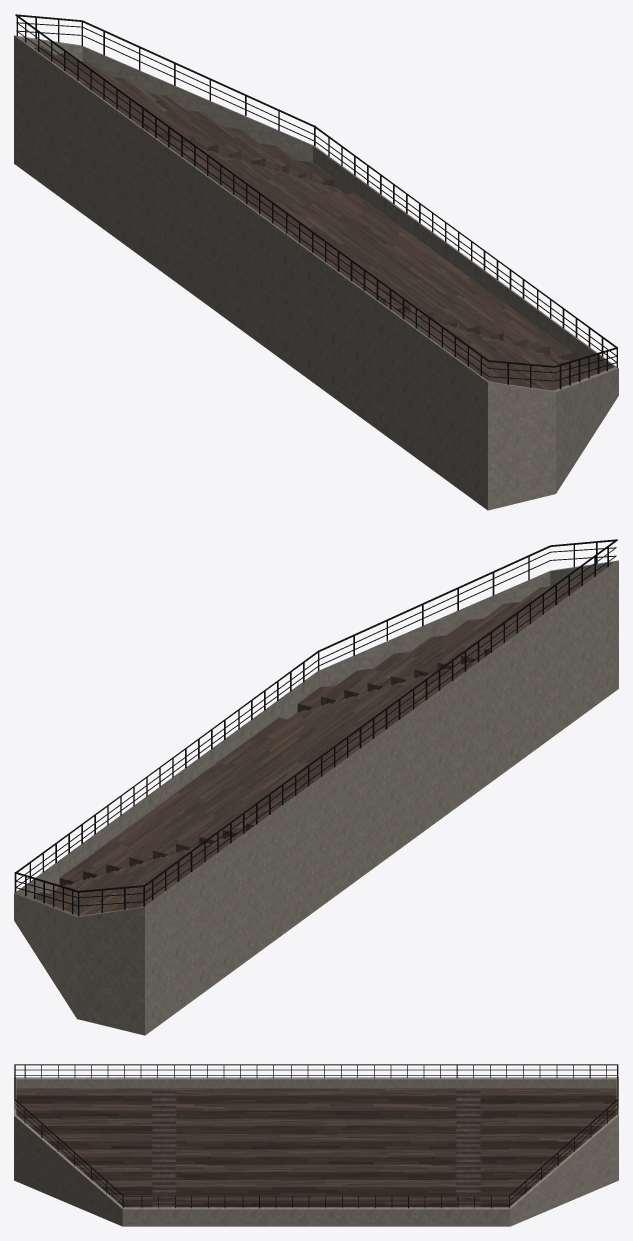
File: Stand_F.FBX
3 renders of one model, top to bottom at view 1: azimuth 30°, elevation 25°; view 2: azimuth 150°, elevation 25°; view 3: azimuth 270°, elevation 25°, orthographic. The views are drawn at different scales.
Visible parts, largest first — view 1: Stand_F_Wall, Stand_F_Step_Floor, Stand_F_Railing, Stand_F_Steps; view 2: Stand_F_Wall, Stand_F_Step_Floor, Stand_F_Railing, Stand_F_Steps; view 3: Stand_F_Step_Floor, Stand_F_Wall, Stand_F_Railing, Stand_F_Steps.
Part boxes in pixels (x1,y1,x2,y2): Stand_F_Wall: [14, 35, 618, 510]; Stand_F_Step_Floor: [34, 46, 599, 390]; Stand_F_Railing: [15, 14, 617, 389]; Stand_F_Steps: [150, 133, 583, 369]; Stand_F_Wall: [14, 560, 618, 1035]; Stand_F_Step_Floor: [33, 571, 599, 915]; Stand_F_Railing: [14, 539, 617, 916]; Stand_F_Steps: [49, 658, 482, 894]; Stand_F_Step_Floor: [16, 1088, 616, 1207]; Stand_F_Wall: [14, 1077, 618, 1226]; Stand_F_Railing: [14, 1064, 618, 1208]; Stand_F_Steps: [152, 1088, 480, 1207].
Size of the model in its own units: 9097 by 6008 by 34518.
